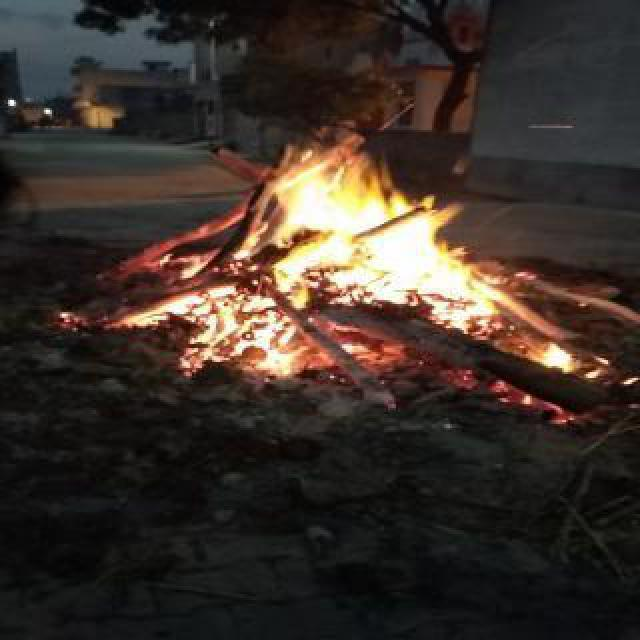Fire: (278, 147, 491, 313), (542, 337, 575, 372)
